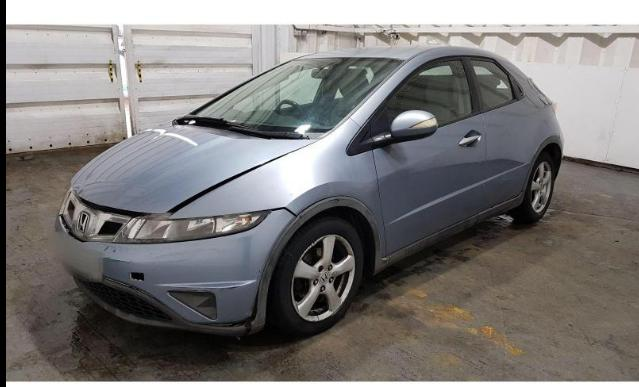Back-bumper: (520, 129, 565, 204)
Back-door: (465, 56, 542, 213)
Back-wheel: (515, 151, 554, 222)
Back-window: (470, 60, 515, 107)
Fender: (169, 118, 385, 259)
Front-bumper: (55, 195, 381, 335)
Front-door: (369, 55, 487, 256)
Front-wheel: (277, 218, 363, 334)
Front-window: (386, 60, 472, 123)
Grille: (60, 187, 132, 242)
Headlight: (112, 210, 270, 243)
Hood: (71, 121, 318, 214)
Mirror: (345, 110, 437, 157)
Quarter-panel: (521, 79, 561, 142)
Rocker-panel: (374, 189, 522, 275)
Roof: (299, 46, 454, 60)
Tail-light: (552, 104, 557, 114)
Windshield: (192, 58, 405, 137)
